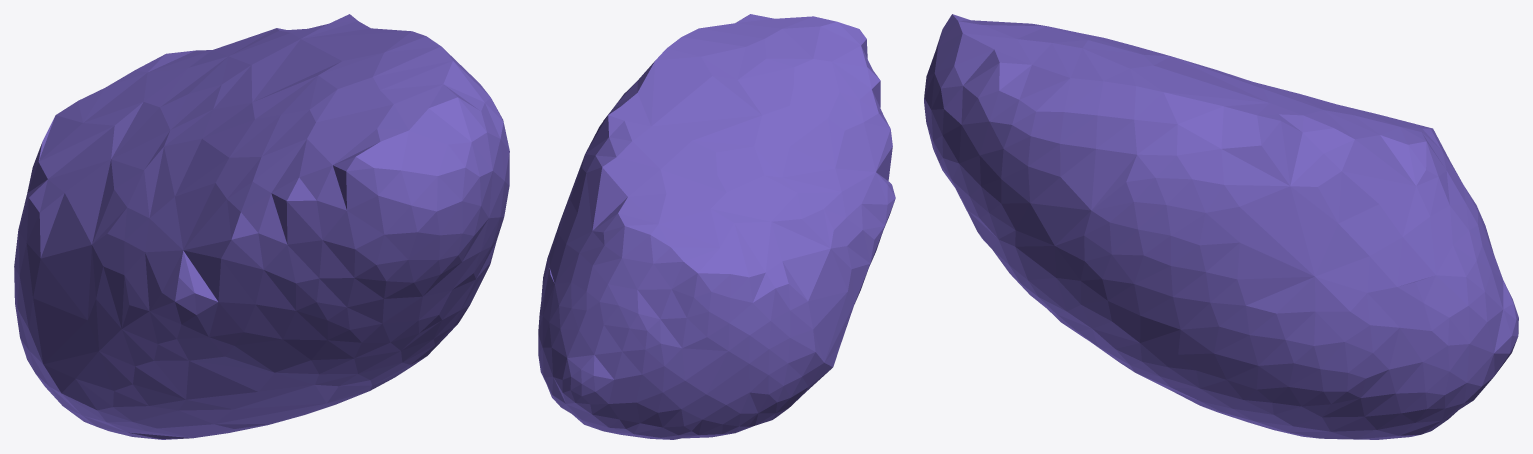
File: Model_10342_LH__Habenular_nucleus_(Hb).obj
3 views of the same model, side by side, from view 1: azimuth 30°, elevation 25°; view 2: azimuth 150°, elevation 25°; view 3: azimuth 270°, elevation 25° (orthographic). The views are drawn at different scales.
Size of the model in its own units: 1.01 by 1.1 by 1.55.
